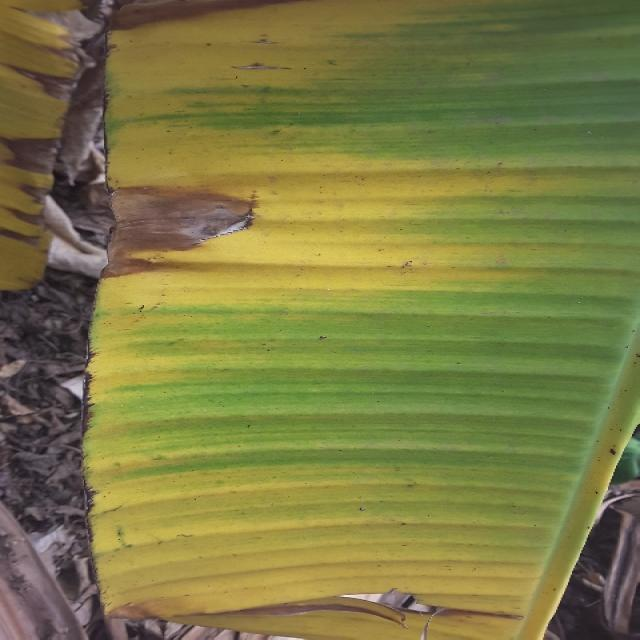Cordana: (70, 0, 640, 640), (0, 0, 80, 325)
